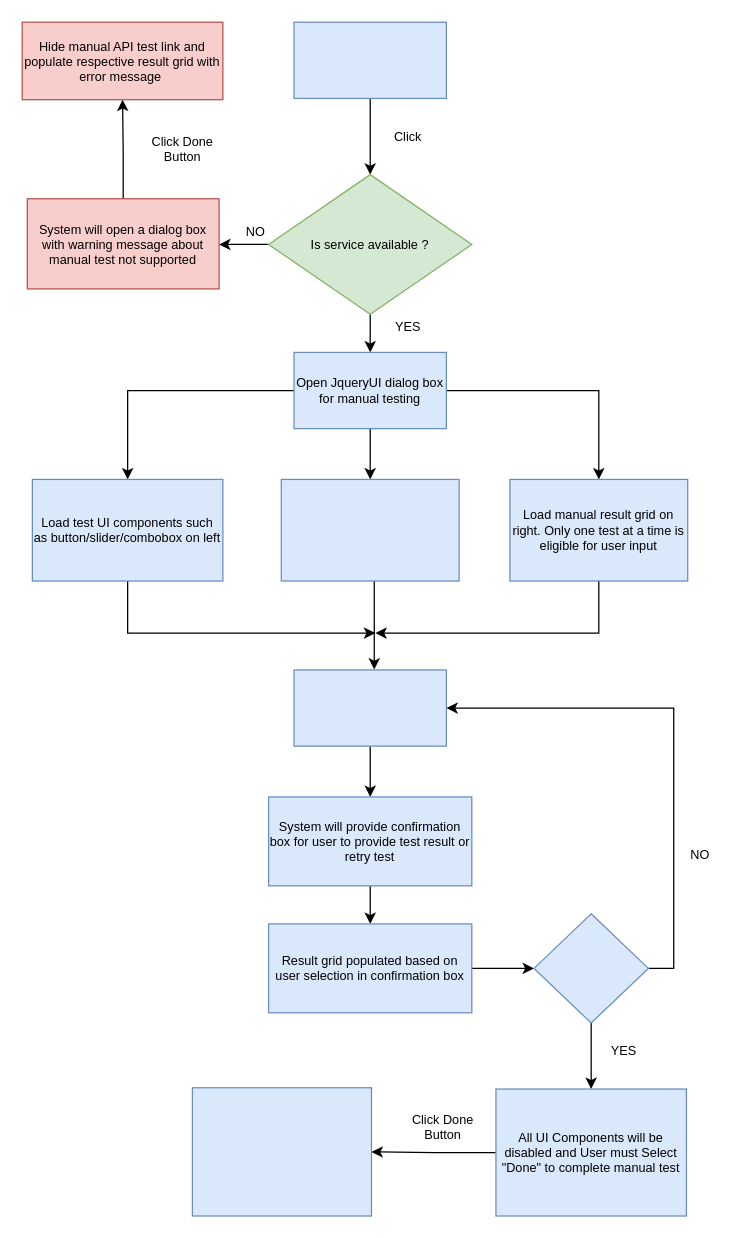
The diagram is 748 pixels wide and 1238 high, and some of its shapes have lost their labels. Here are the shapes that lost their labels. From the top down, the box of each, then its label:
(293, 21, 446, 98): Manual API test (Link)
(280, 478, 459, 581): Disable UI components which are not part of eligible test on result grid.
(293, 669, 446, 746): User follows instruction provided on test grid for current eligible test
(533, 912, 648, 1023): All tests completed ?
(191, 1086, 371, 1216): Replace manual API test link with manual test results
